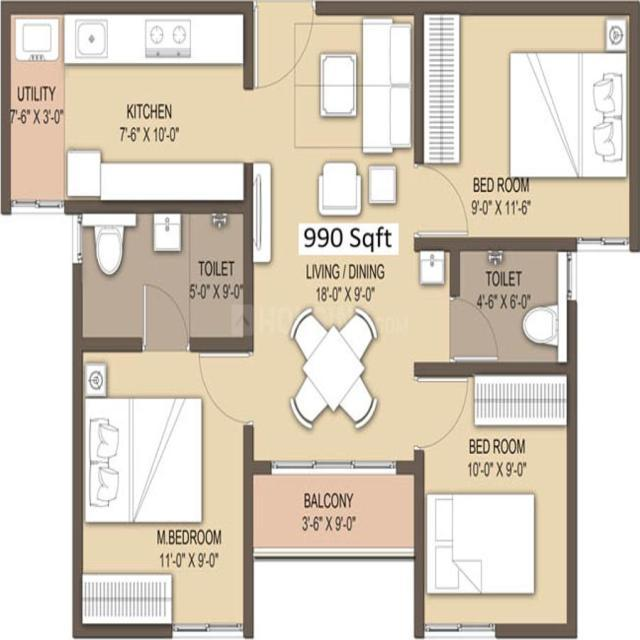Balcony-Sitout: (245, 462, 424, 562)
Bedroom: (415, 1, 640, 250), (412, 364, 576, 635)
Bedroom with Toilet: (73, 355, 253, 640)
Dining: (284, 307, 382, 435)
Enterance-Foyer: (246, 0, 319, 110)
Kitchen: (62, 2, 254, 209)
Living: (248, 0, 415, 218)
Toilet: (72, 200, 254, 354), (413, 237, 577, 376)
Utility: (4, 3, 66, 214)
